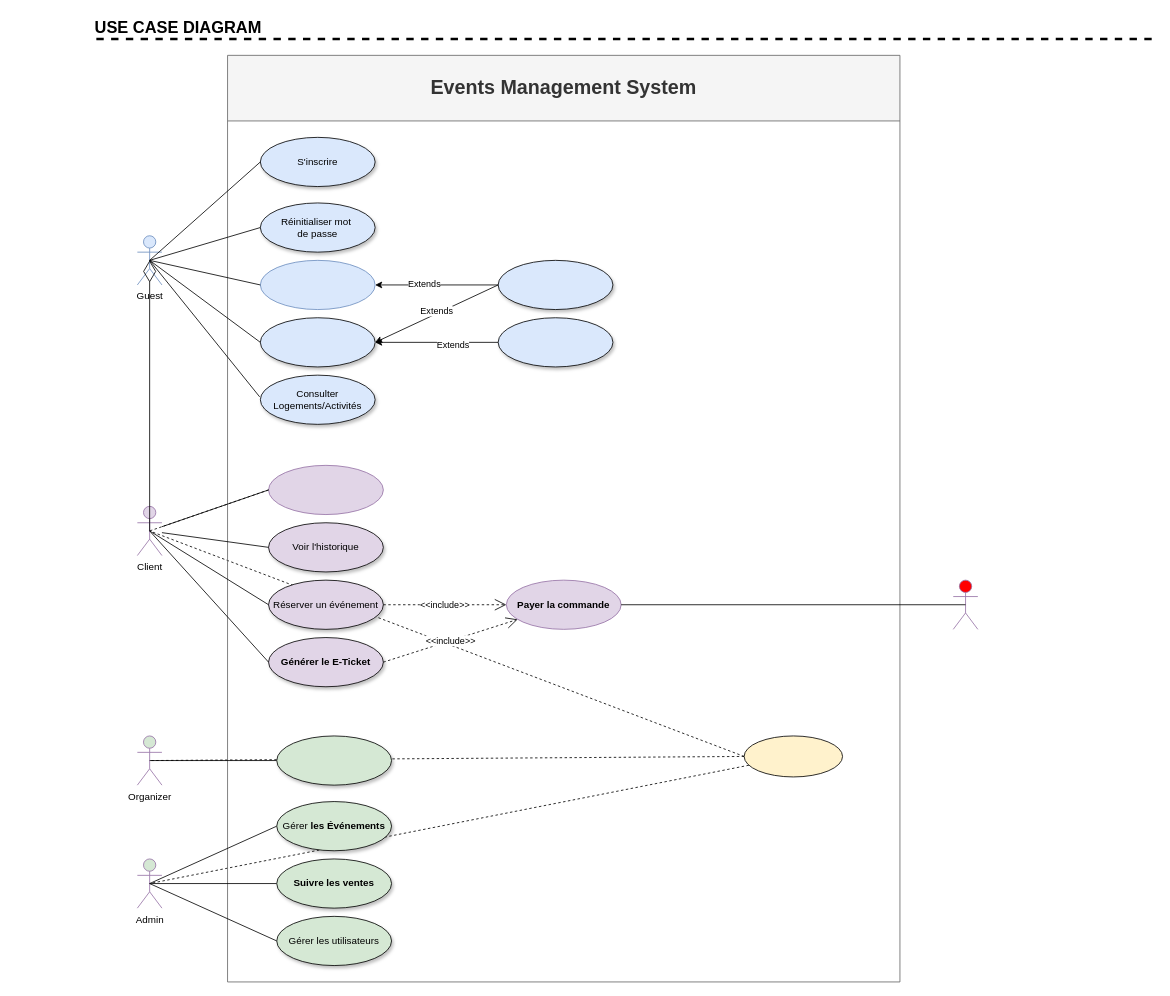
Image size: 1170x996. Some labels were removed from this diagram. The shapes that lost their labels are listed below. From the top down, each one's centre as x and y in pixels, then its label:
At (x=317, y=285): "Consulter les événements".
At (x=556, y=285): "Consulter détails événement".
At (x=318, y=343): "Rechercher un événement".
At (x=556, y=343): "Filtrer les événements".
At (x=325, y=490): "Gérer son profil".
At (x=965, y=604): "Stripe/CMI".
At (x=334, y=761): "Scanner/Valider Billet".
At (x=793, y=756): "Login".
